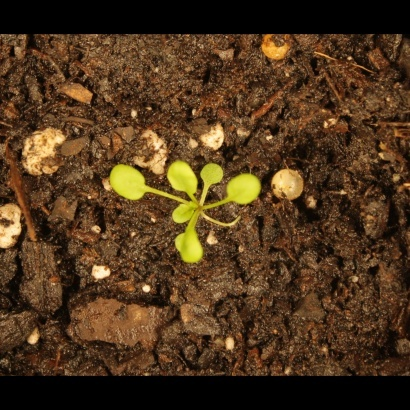leaf: (109, 159, 150, 204), (174, 227, 207, 269), (226, 173, 267, 206), (167, 159, 201, 198), (199, 161, 225, 190), (168, 202, 199, 225)
